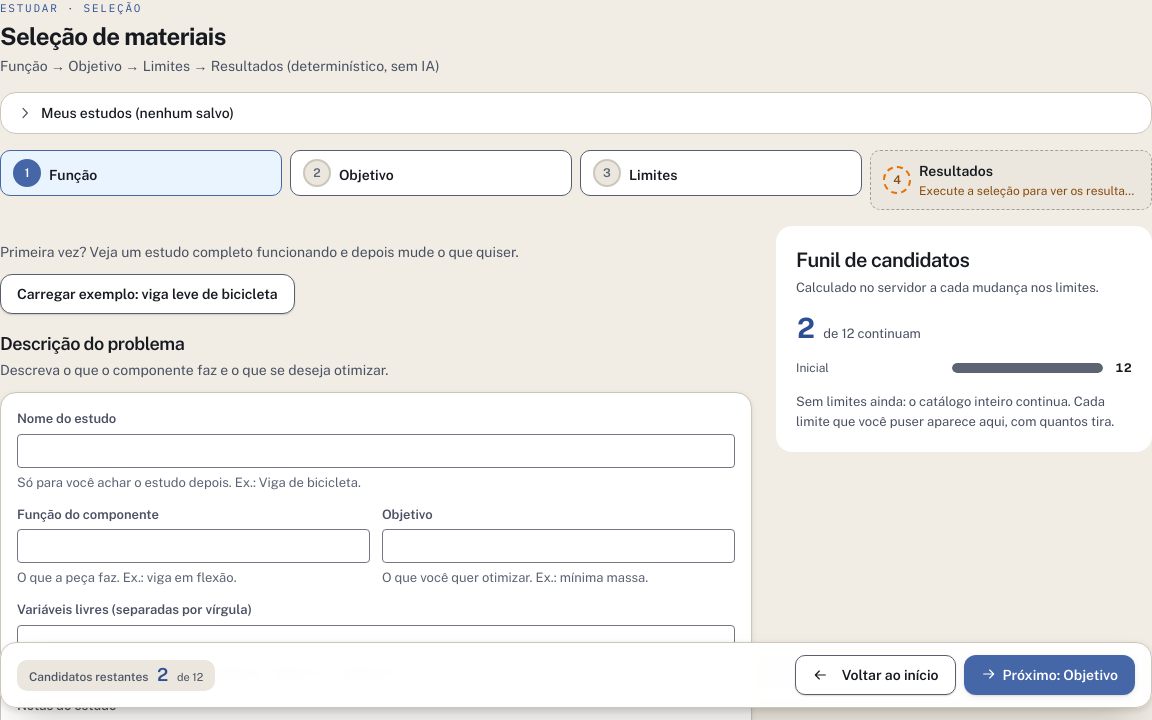
assistente de seleção › opens the results step once the run answers, and stops refusing it
Click the button "2 Objetivo" at (366, 175), box x1=290 y1=150 x2=572 y2=196
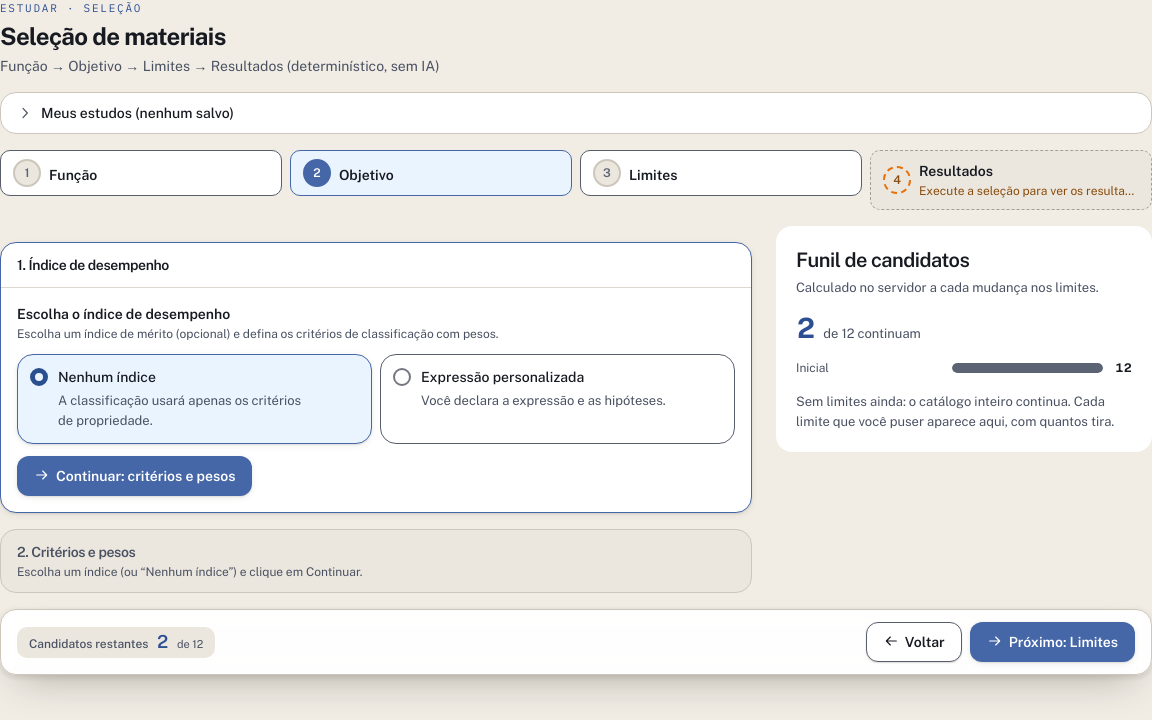
Click the button "3 Limites" at (653, 175), box x1=580 y1=150 x2=862 y2=196
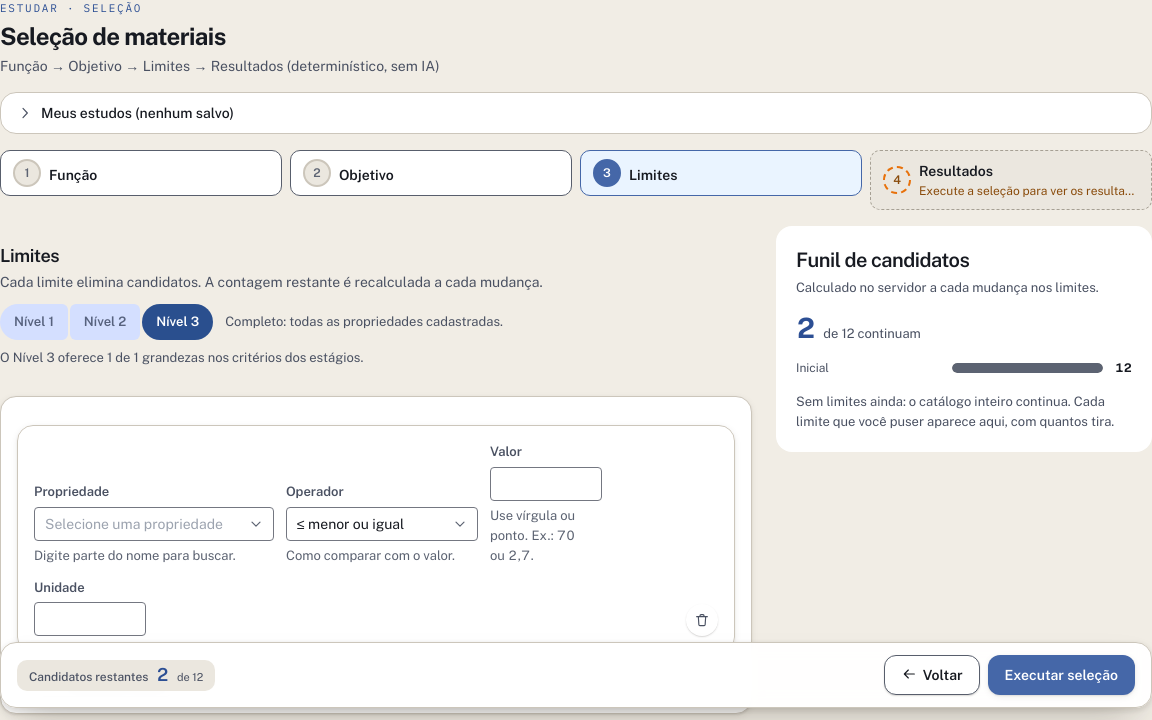
Click the button "Executar seleção" at (1061, 675), box x1=988 y1=655 x2=1135 y2=695
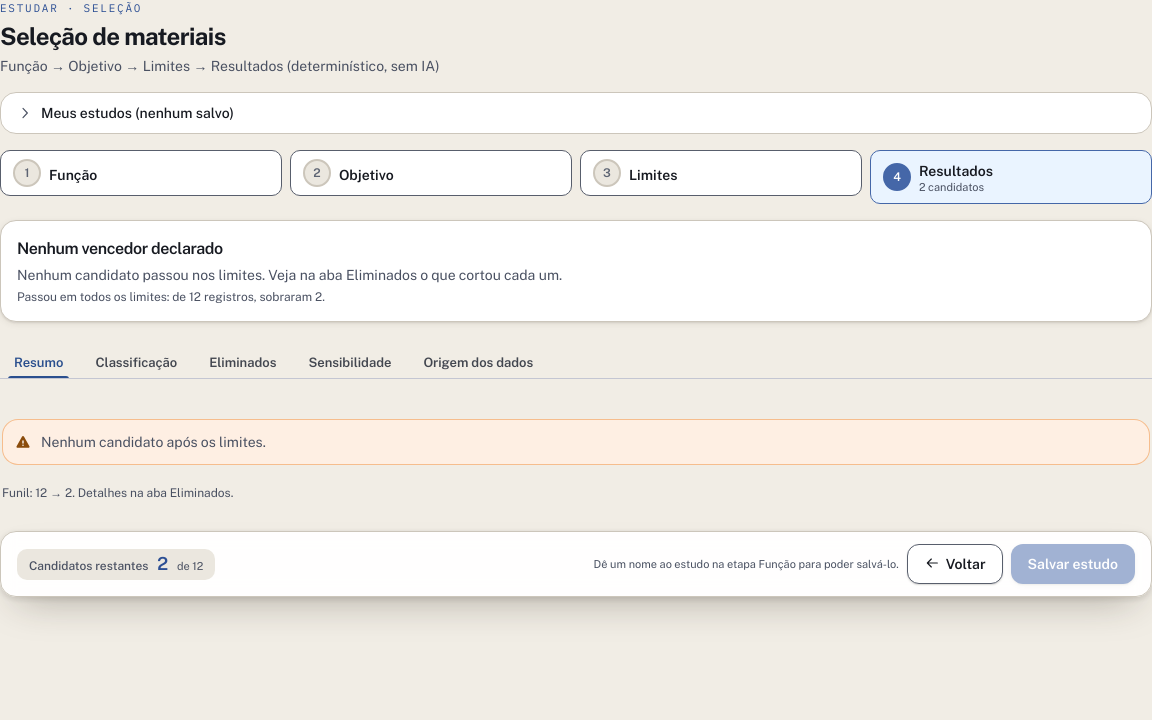
Now the heading "Nenhum vencedor declarado" is shown, box x1=17 y1=239 x2=223 y2=258
Now the button "4 Resultados 2 candidatos" is enabled, box x1=870 y1=150 x2=1151 y2=204
